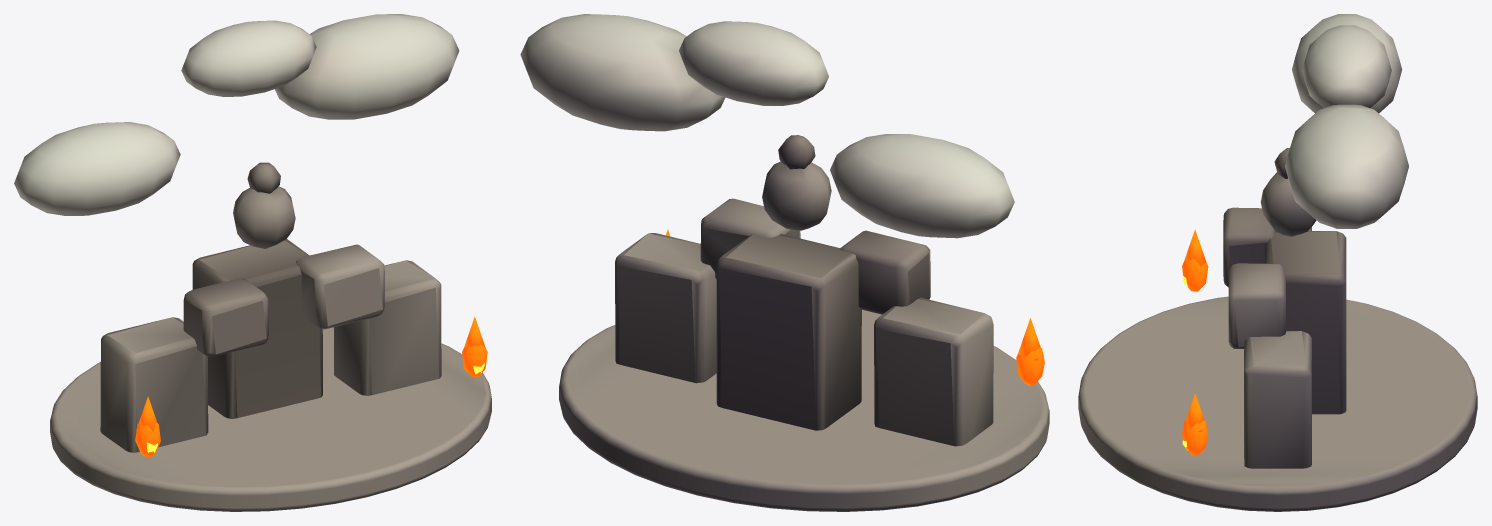
The model's file is faith.glb.
The picture shows the model from 3 angles, left to right: view 1: azimuth 30°, elevation 25°; view 2: azimuth 150°, elevation 25°; view 3: azimuth 270°, elevation 25°; orthographic projection. The views are drawn at different scales.
Parts seen in each view (by area): view 1: faith; view 2: faith; view 3: faith.
Boxes of the visible parts, bbox=[...] form: faith: bbox=[14, 14, 491, 511]; faith: bbox=[520, 14, 1049, 511]; faith: bbox=[1078, 14, 1477, 511].
Bounding box in the file's own units: 5.94 × 4.9 × 4.63.
